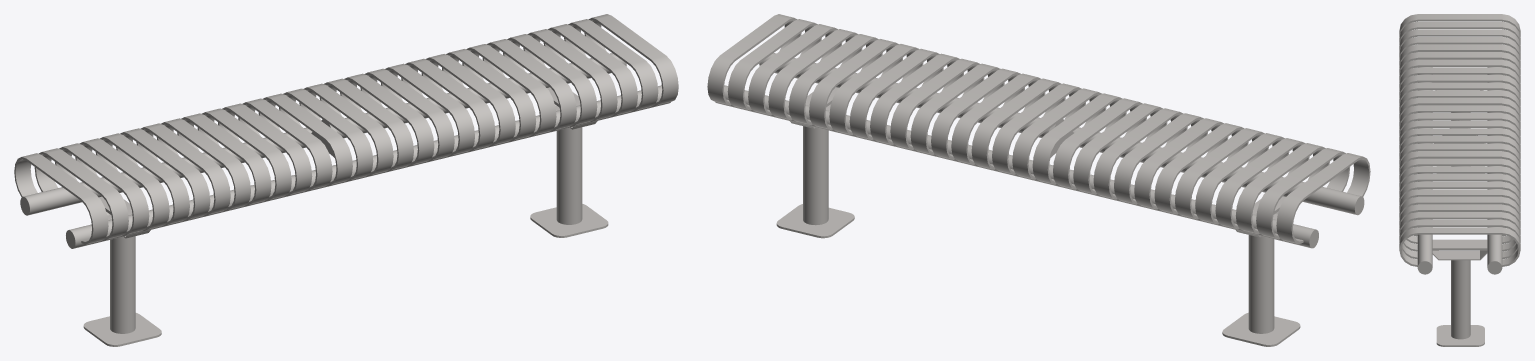
File: park_bench.glb
3 renders of one model, left to right at view 1: azimuth 30°, elevation 25°; view 2: azimuth 150°, elevation 25°; view 3: azimuth 270°, elevation 25°, orthographic. The views are drawn at different scales.
Parts seen in each view (by area): view 1: Metal Bench_0; view 2: Metal Bench_0; view 3: Metal Bench_0.
Part boxes in pixels (left/top/right/bottom): Metal Bench_0: left=14, top=14, right=678, bottom=346; Metal Bench_0: left=707, top=14, right=1370, bottom=346; Metal Bench_0: left=1399, top=14, right=1520, bottom=346.
Size of the model in its own units: 12.89 by 3.49 by 2.96.
1 material, 1 textured.
